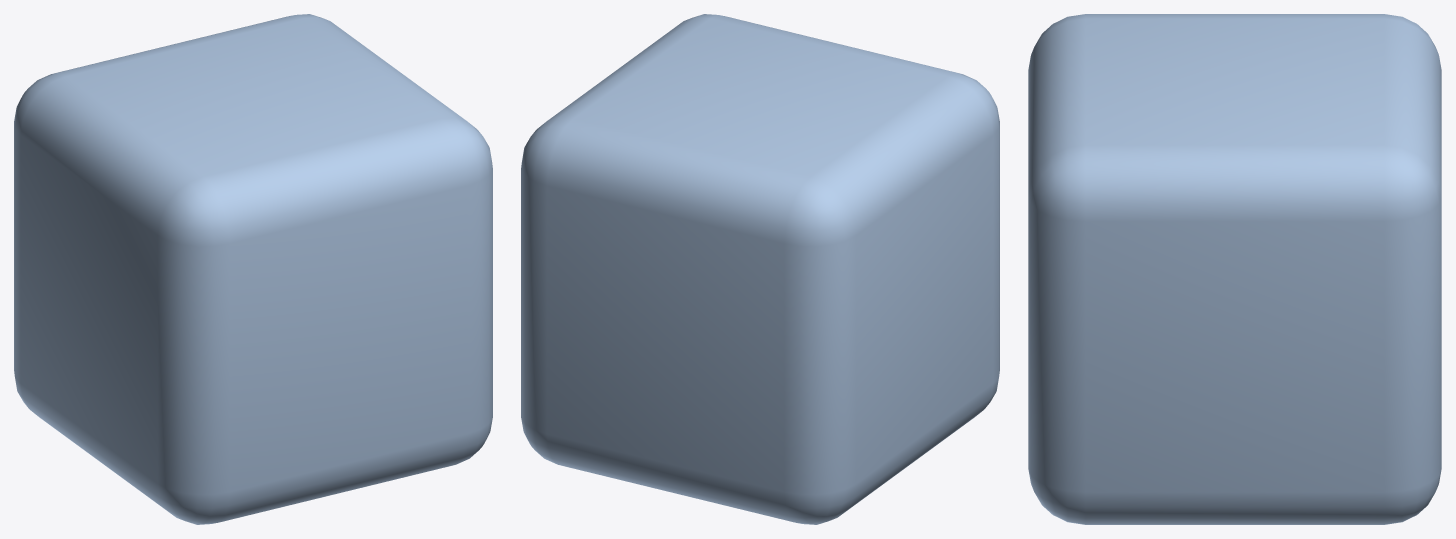
File: testBoxWithAnimation.glb
3 renders of one model, left to right at view 1: azimuth 30°, elevation 25°; view 2: azimuth 150°, elevation 25°; view 3: azimuth 270°, elevation 25°, orthographic. The views are drawn at different scales.
Visible parts, largest first — view 1: Cube; view 2: Cube; view 3: Cube.
Part boxes in pixels (left/top/right/bottom): Cube: left=14, top=14, right=492, bottom=524; Cube: left=521, top=14, right=999, bottom=524; Cube: left=1028, top=14, right=1441, bottom=524.
Size of the model in its own units: 2 by 2 by 2.
